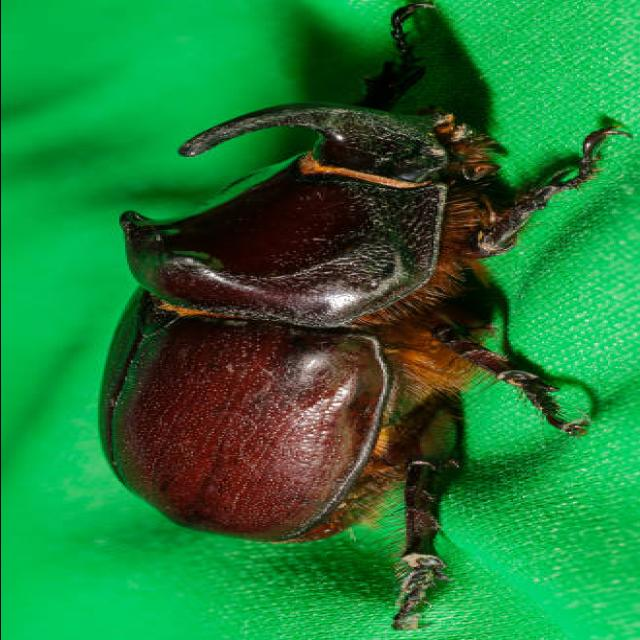Rhino-beetle: (73, 66, 608, 566)
